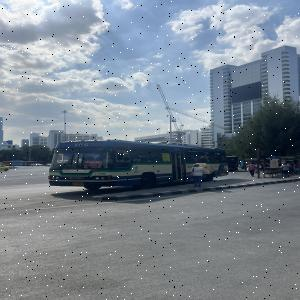BMTA-bus: (48, 132, 229, 192)
Bus Line Number: (73, 143, 90, 147)
Bus Side Number: (94, 172, 107, 176)
Destination Sign: (83, 160, 102, 168)
